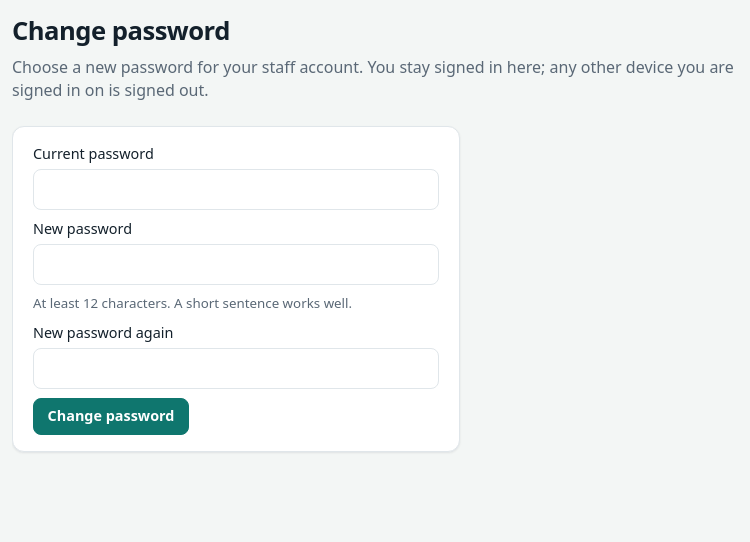
Choosing a new password › shows the server’s reason, such as a wrong current password, without signing out
The width and height of the screenshot is (750, 542).
Type "wrong password" into the password field labelled "Current password". click: (236, 190)
box: [33,169,439,210]
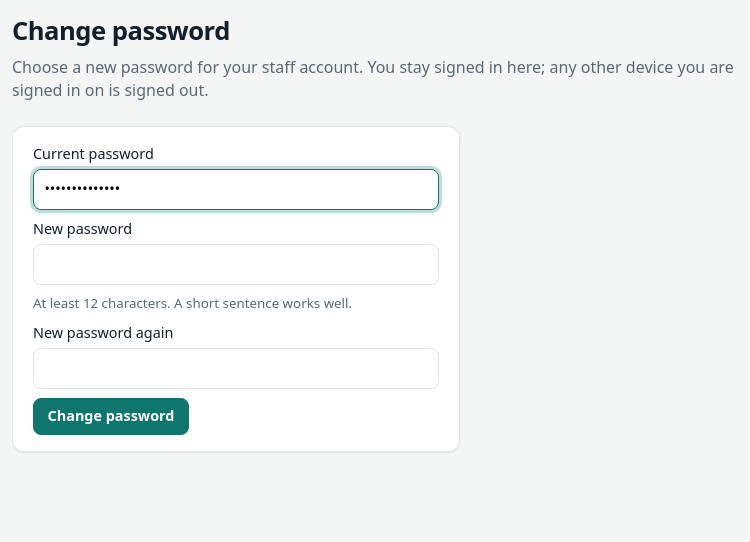
Type "a long new passphrase" into the password field labelled "New password". click: (236, 265)
box: [33,244,439,285]
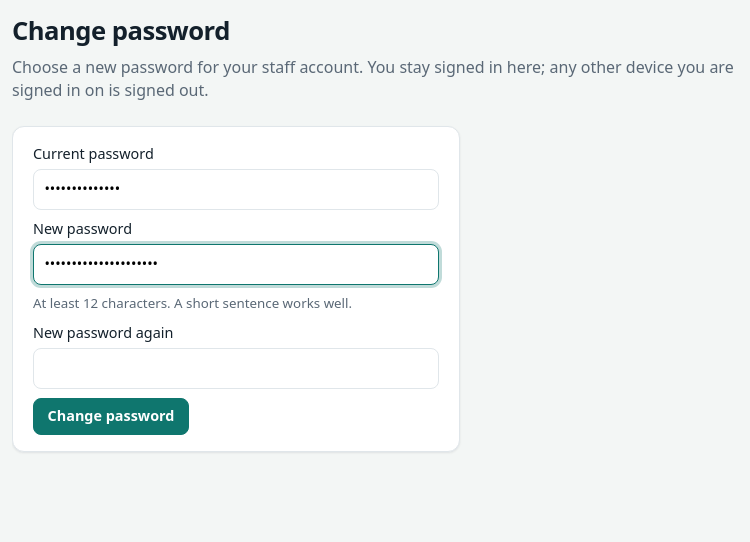
Type "a long new passphrase" into the password field labelled "New password again". click: (236, 368)
box: [33,348,439,389]
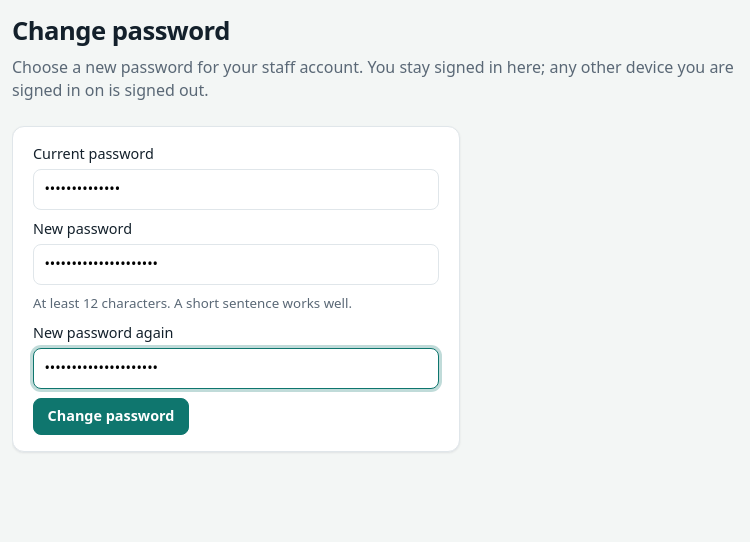
Click the button "Change password". click: click(111, 417)
box: [33,398,189,435]
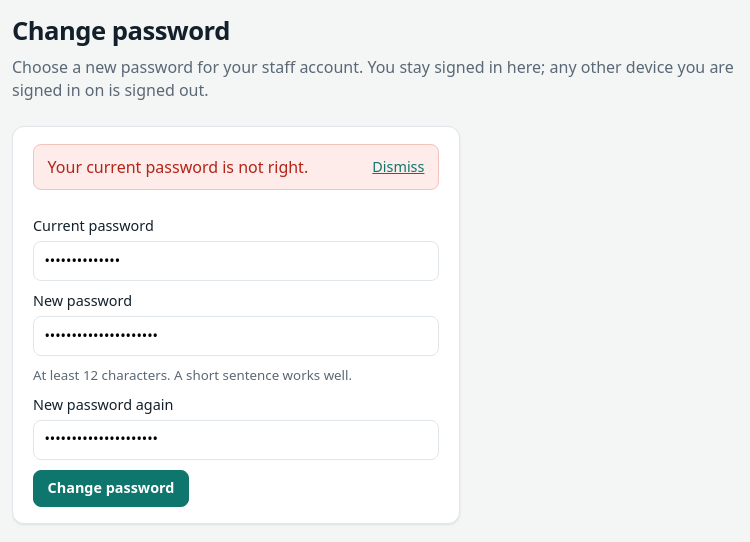
Expected: the text "Your current password is not right." is shown, [48,156,308,179]
